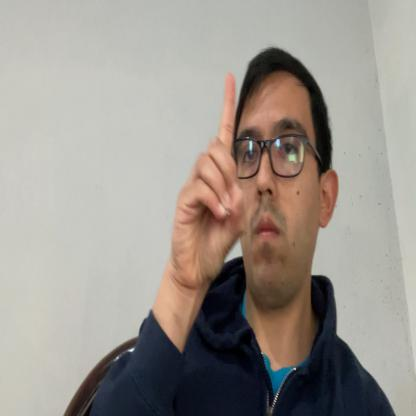D: (172, 70, 248, 298)
